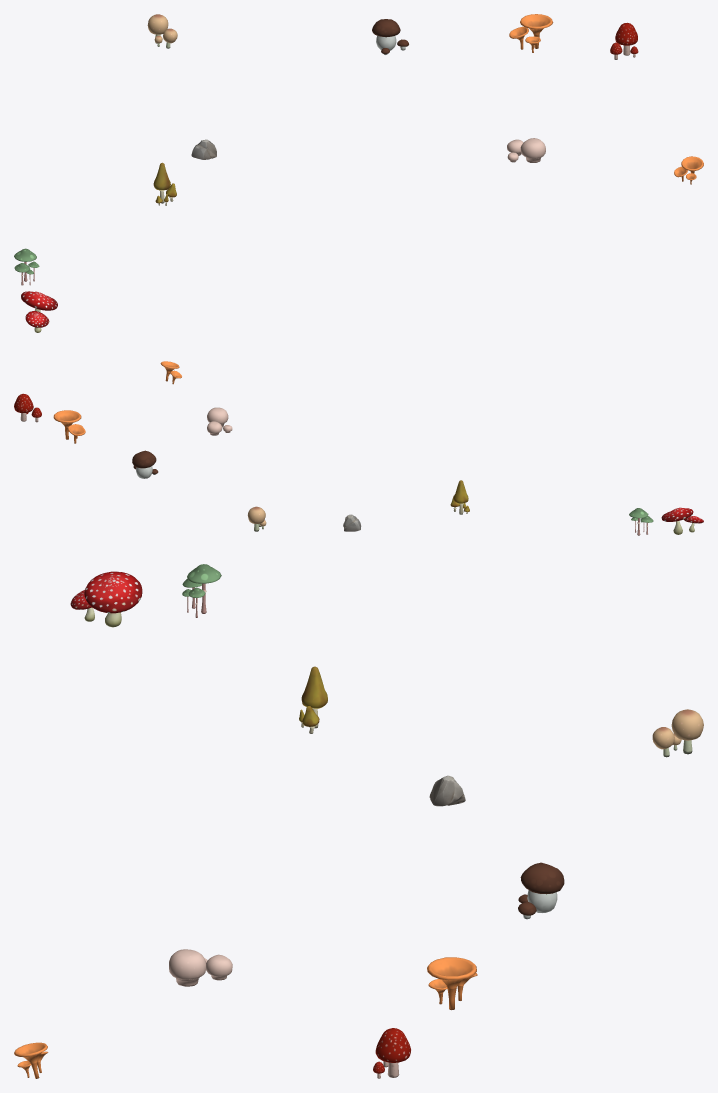
File: small_mushrooms.glb
3 views of the same model, one above another, from view 1: azimuth 30°, elevation 25°; view 2: azimuth 150°, elevation 25°; view 3: azimuth 270°, elevation 25° (orthographic). The views are drawn at different scales.
Visible parts, largest first — view 1: Object_7.001, Object_3, Object_2.001, Object_4, Object_6, Object_8, Object_2.006, Object_5; view 2: Object_7.001, Object_3, Object_2.001, Object_4, Object_2.006, Object_8, Object_6, Object_5; view 3: Object_2.006, Object_3, Object_2.001, Object_7.001, Object_6, Object_4, Object_8, Object_5, SM_Rocks_05_RocksStylized_M_0.001.
Boxes of the visible parts, x1,y1,x2,y2 form: Object_7.001: [509, 14, 553, 52]; Object_3: [372, 19, 408, 54]; Object_2.001: [507, 138, 545, 162]; Object_4: [610, 22, 638, 59]; Object_6: [147, 14, 177, 48]; Object_8: [153, 162, 176, 205]; Object_2.006: [21, 291, 57, 312]; Object_5: [14, 248, 39, 285]; Object_7.001: [53, 410, 85, 443]; Object_3: [132, 450, 158, 478]; Object_2.001: [207, 407, 232, 435]; Object_4: [14, 393, 41, 422]; Object_2.006: [661, 507, 693, 534]; Object_8: [450, 480, 469, 514]; Object_6: [247, 506, 266, 531]; Object_5: [629, 508, 653, 535]; Object_2.006: [84, 571, 142, 627]; Object_3: [518, 862, 564, 919]; Object_2.001: [169, 949, 232, 986]; Object_7.001: [427, 957, 477, 1010]; Object_6: [652, 709, 703, 757]; Object_4: [373, 1028, 410, 1078]; Object_8: [299, 666, 327, 733]; Object_5: [182, 564, 221, 617]; SM_Rocks_05_RocksStylized_M_0.001: [429, 775, 465, 806].
Bounding box in the file's own units: 17.26 × 2.22 × 9.55.
10 materials, 10 textured.
